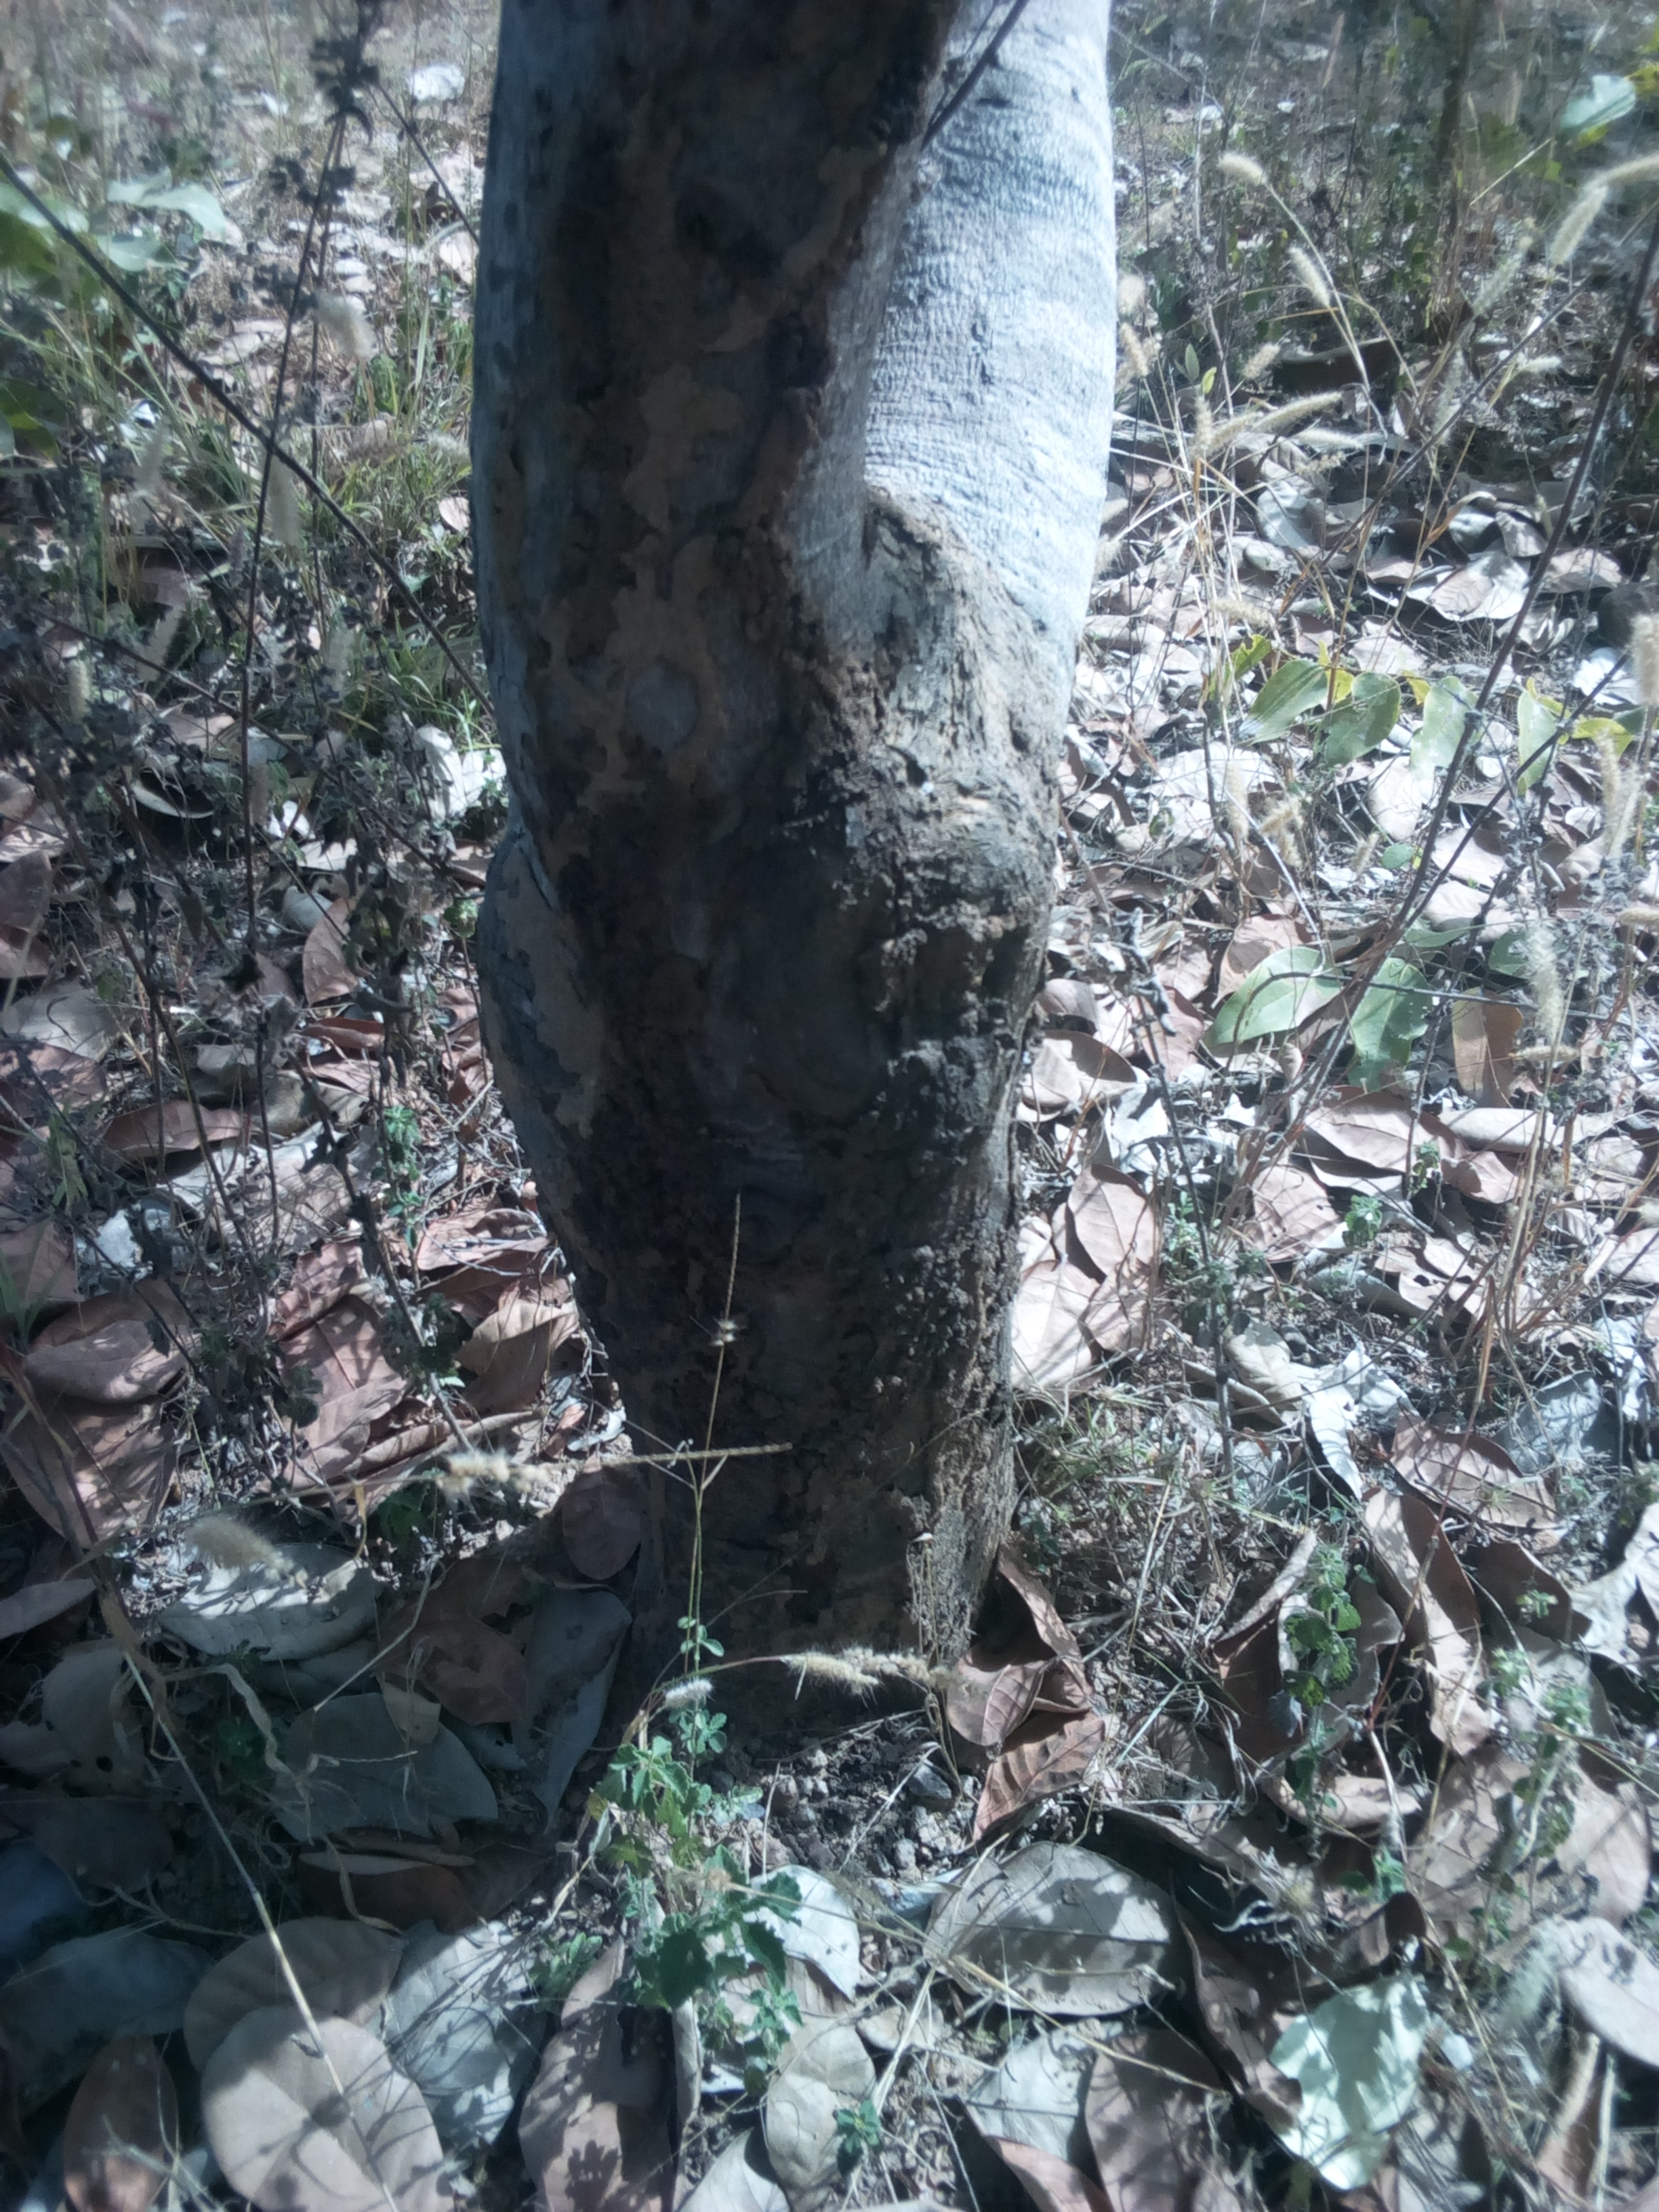Termites: (538, 869, 1023, 1573), (511, 113, 866, 798)
